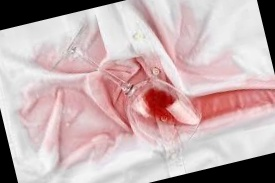wine: (26, 76, 126, 126), (188, 82, 275, 126), (58, 102, 119, 153)
